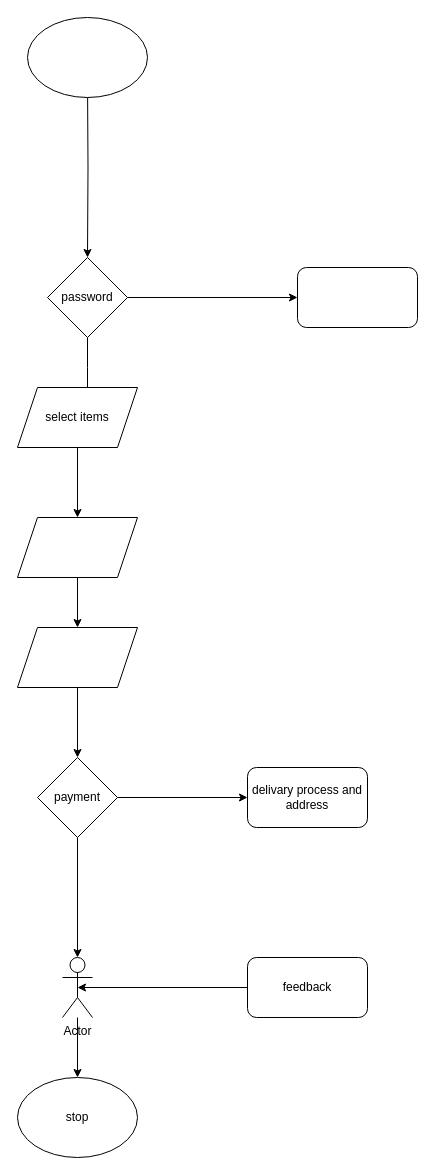
Some shapes in this 435 by 1175 pixel diagram are drawn without their labels. Here are the shapes that lost their labels. From the top down, the centre of each, then its label:
At (87,57): "start".
At (357,297): "verification".
At (77,547): "biryani".
At (77,657): "curry".
